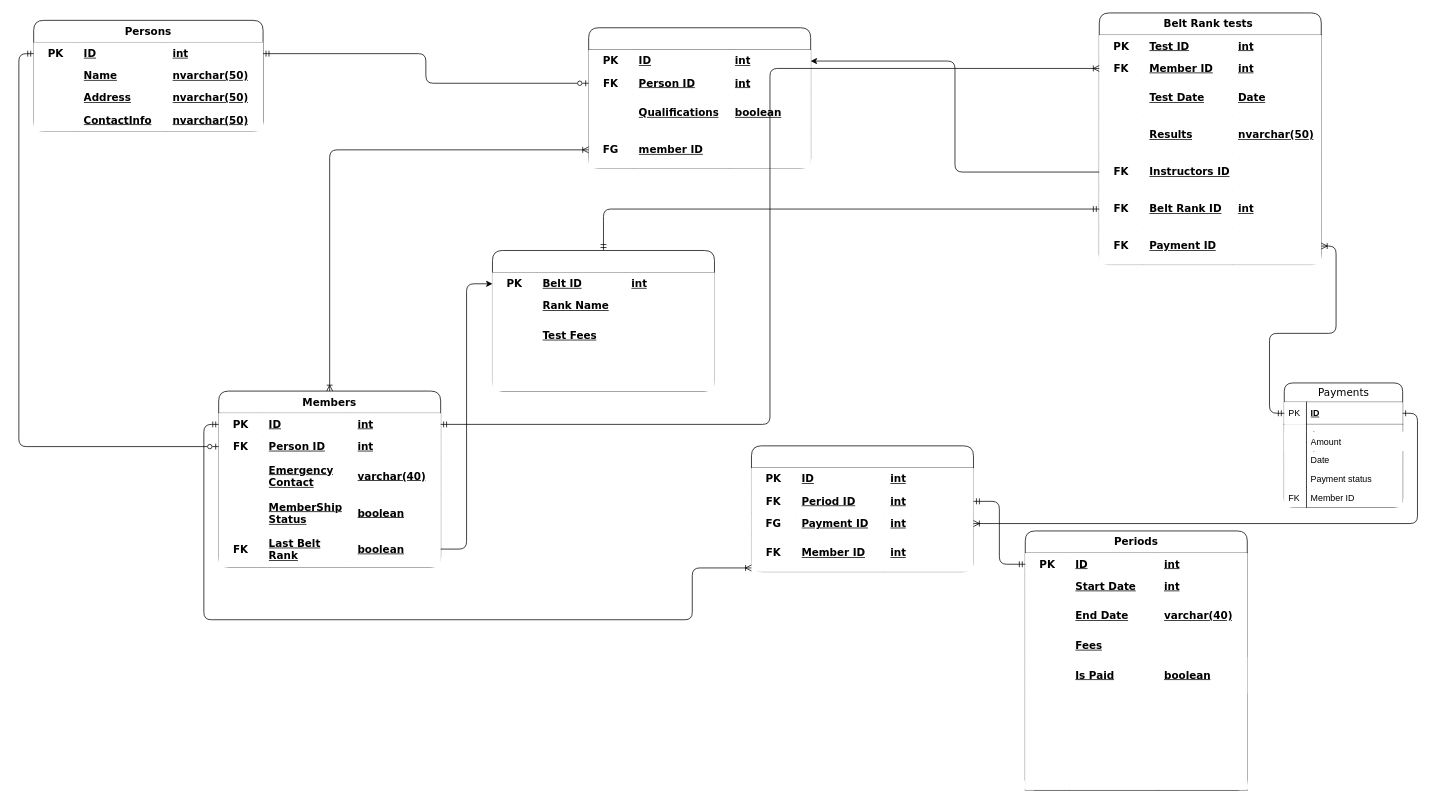
Image size: 1437x803. Some labels were removed from this diagram. The box of each missing label's shape, as (x1, y1, x2, y2) in pixels:
Belt Ranks: (492, 250, 714, 391)
Instructors: (588, 27, 811, 168)
Subscriptions: (751, 445, 973, 572)
